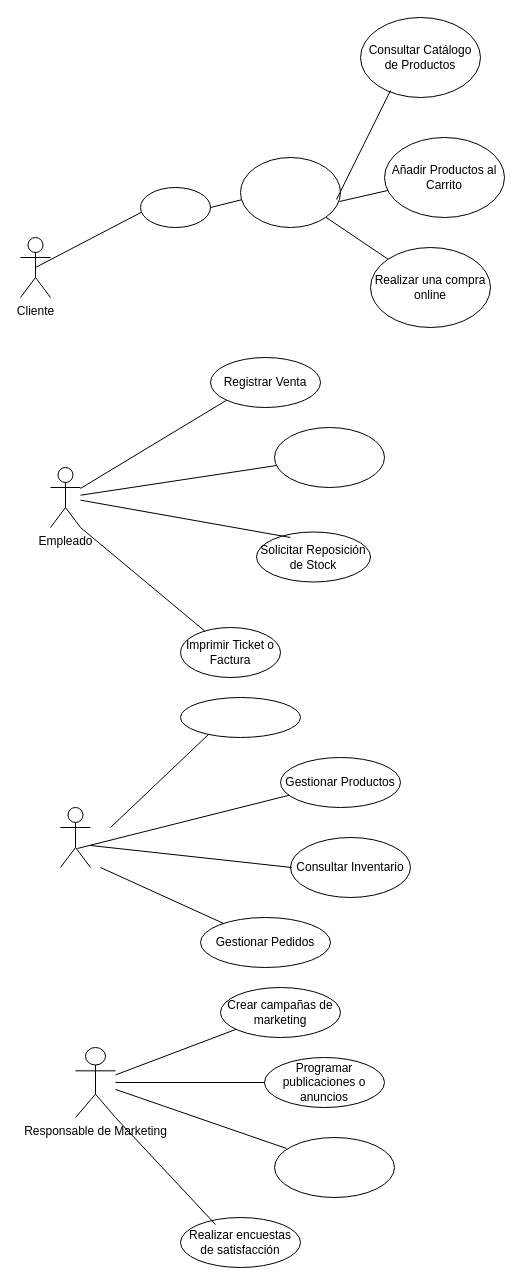
Image size: 522x1285. Some labels were removed from this diagram. The shapes that lost their labels are listed below. From the top down, each one's centre as x and y in pixels, then its label:
the point at 175,207: Registrarse
the point at 290,192: Iniciar Sesión
the point at 329,457: Consultar Disponibilidad de Productos
the point at 240,717: Gestionar Usuarios
the point at 75,837: Administrador
the point at 334,1167: Gestionar promociones o descuentos
